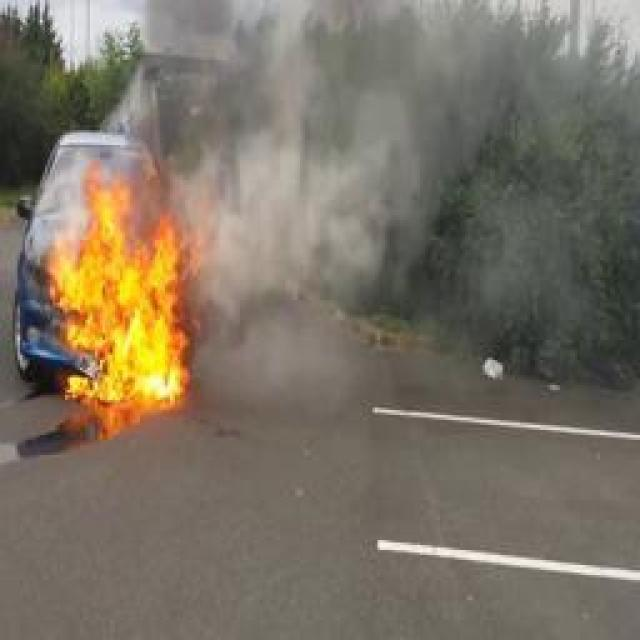Fire: (46, 161, 192, 399)
